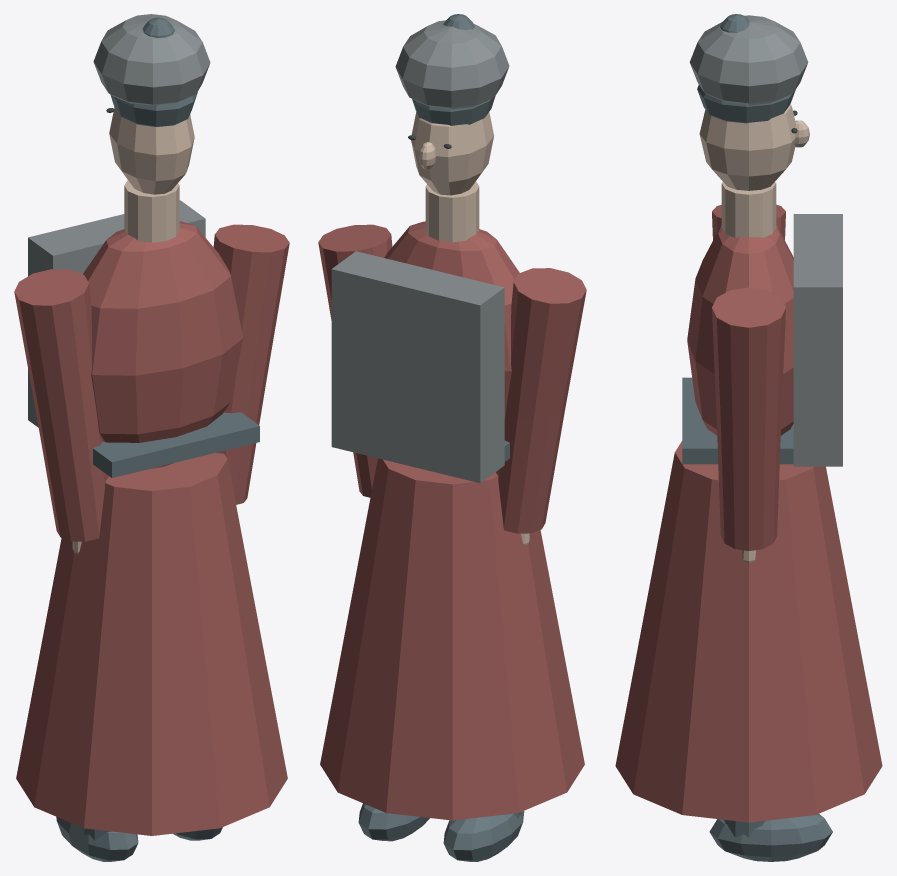
3 renders of one model, left to right at view 1: azimuth 30°, elevation 25°; view 2: azimuth 150°, elevation 25°; view 3: azimuth 270°, elevation 25°, orthographic. The views are drawn at different scales.
Parts seen in each view (by area): view 1: robe_skirt, torso, upper_arm_L, helmet, upper_arm_R, sleeve_L, head, belt, chest_armor, neck, sleeve_R, boot_L (+1 smaller); view 2: robe_skirt, chest_armor, upper_arm_L, helmet, sleeve_L, torso, head, boot_L, neck, upper_arm_R, boot_R, hair (+1 smaller); view 3: robe_skirt, chest_armor, upper_arm_R, torso, helmet, sleeve_R, head, boot_R, neck, belt, hair, upper_arm_L.
Boxes of the visible parts, left/top/right/bottom form: robe_skirt: left=16, top=453, right=287, bottom=835; torso: left=83, top=221, right=243, bottom=468; upper_arm_L: left=14, top=269, right=96, bottom=425; helmet: left=93, top=14, right=210, bottom=105; upper_arm_R: left=213, top=224, right=289, bottom=380; sleeve_L: left=36, top=414, right=108, bottom=541; head: left=109, top=107, right=194, bottom=194; belt: left=93, top=412, right=259, bottom=477; chest_armor: left=28, top=200, right=205, bottom=427; neck: left=124, top=180, right=179, bottom=242; sleeve_R: left=216, top=373, right=267, bottom=504; boot_L: left=56, top=817, right=138, bottom=861; robe_skirt: left=320, top=458, right=584, bottom=820; chest_armor: left=331, top=251, right=504, bottom=482; upper_arm_L: left=506, top=268, right=586, bottom=420; helmet: left=395, top=20, right=509, bottom=109; sleeve_L: left=496, top=409, right=565, bottom=533; torso: left=384, top=221, right=519, bottom=418; head: left=411, top=112, right=493, bottom=195; boot_L: left=443, top=811, right=524, bottom=861; neck: left=425, top=181, right=479, bottom=242; upper_arm_R: left=318, top=224, right=392, bottom=320; boot_R: left=358, top=803, right=429, bottom=841; hair: left=412, top=96, right=495, bottom=125; robe_skirt: left=615, top=441, right=882, bottom=822; chest_armor: left=793, top=214, right=842, bottom=466; upper_arm_R: left=712, top=287, right=785, bottom=441; torso: left=687, top=224, right=793, bottom=435; helmet: left=689, top=15, right=808, bottom=105; sleeve_R: left=717, top=424, right=780, bottom=550; head: left=699, top=104, right=795, bottom=190; boot_R: left=709, top=814, right=832, bottom=861; neck: left=721, top=182, right=776, bottom=237; belt: left=682, top=377, right=793, bottom=464; hair: left=697, top=84, right=795, bottom=123; upper_arm_L: left=712, top=204, right=785, bottom=239.
Bounding box in the file's own units: 0.6085 × 1.84 × 0.54.
